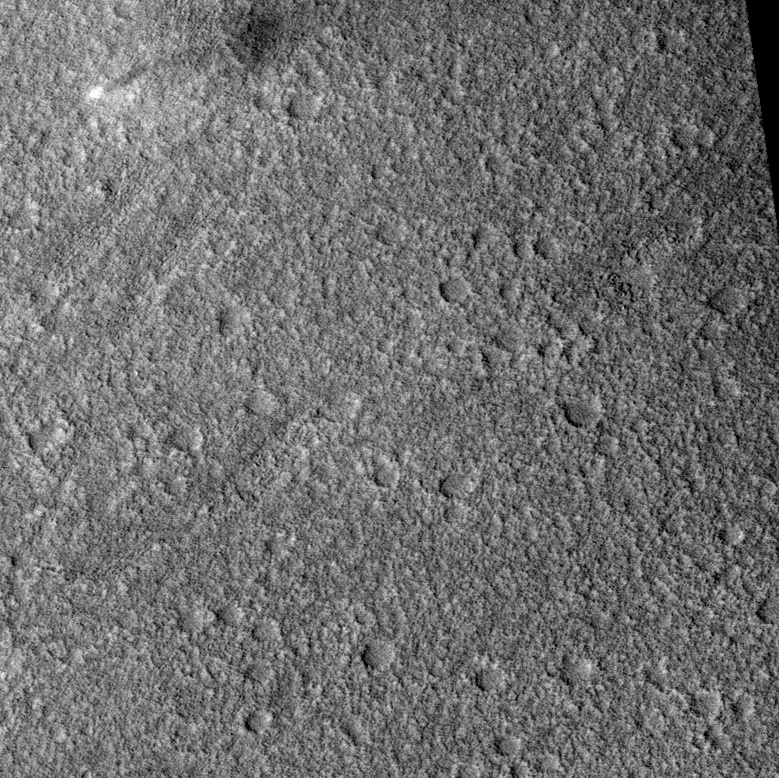dust_devil: (84, 11, 284, 103)
